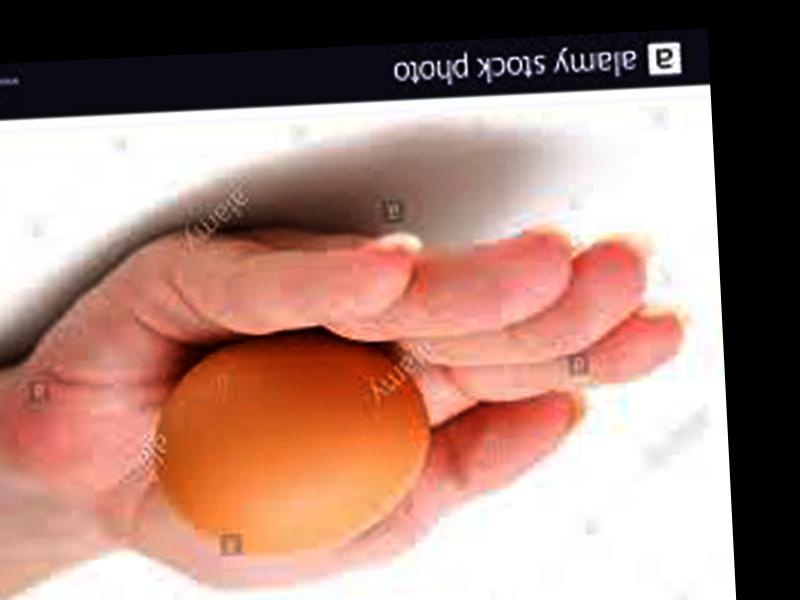Eggs: (148, 329, 433, 565)
